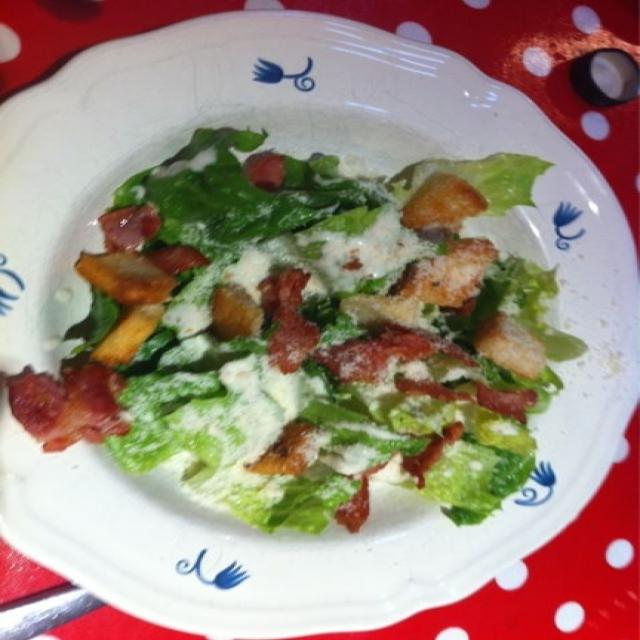蔬菜料理: (13, 13, 624, 621)
